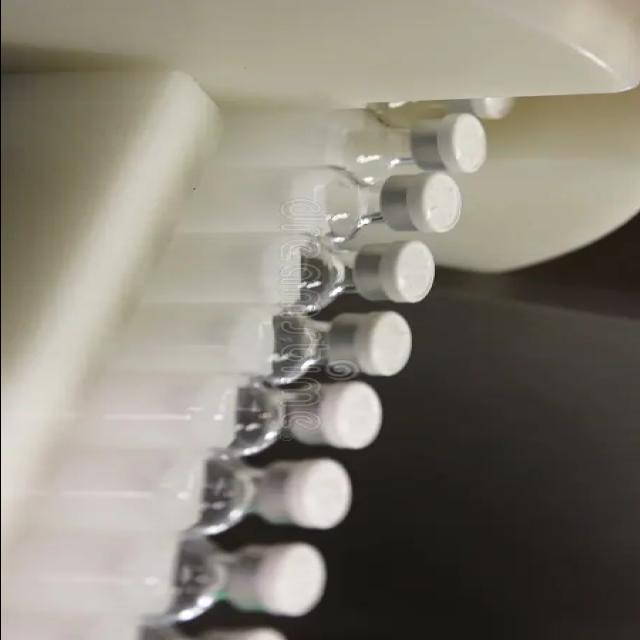vial: (258, 549, 328, 623), (288, 465, 350, 533), (360, 317, 414, 376), (380, 248, 436, 303), (435, 120, 489, 177), (325, 391, 379, 441), (409, 179, 455, 234), (466, 94, 514, 120), (225, 635, 282, 640)
